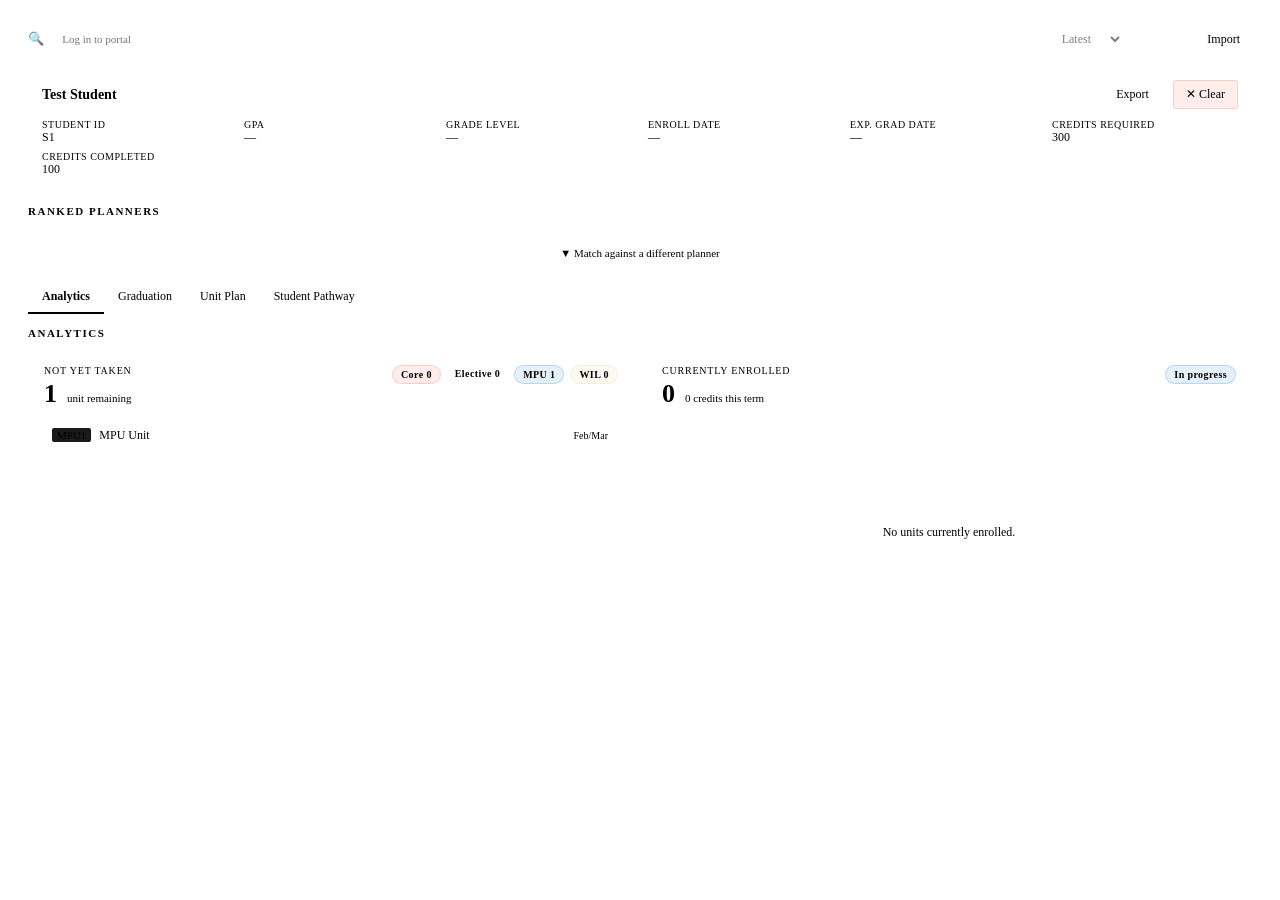
Graduation Check: per-category credit bars › core_cp null but major_cp set: the Core & Major bar still appears, using major_cp alone
Click the tab "Graduation".
click(145, 298)  # box [104,281,186,314]
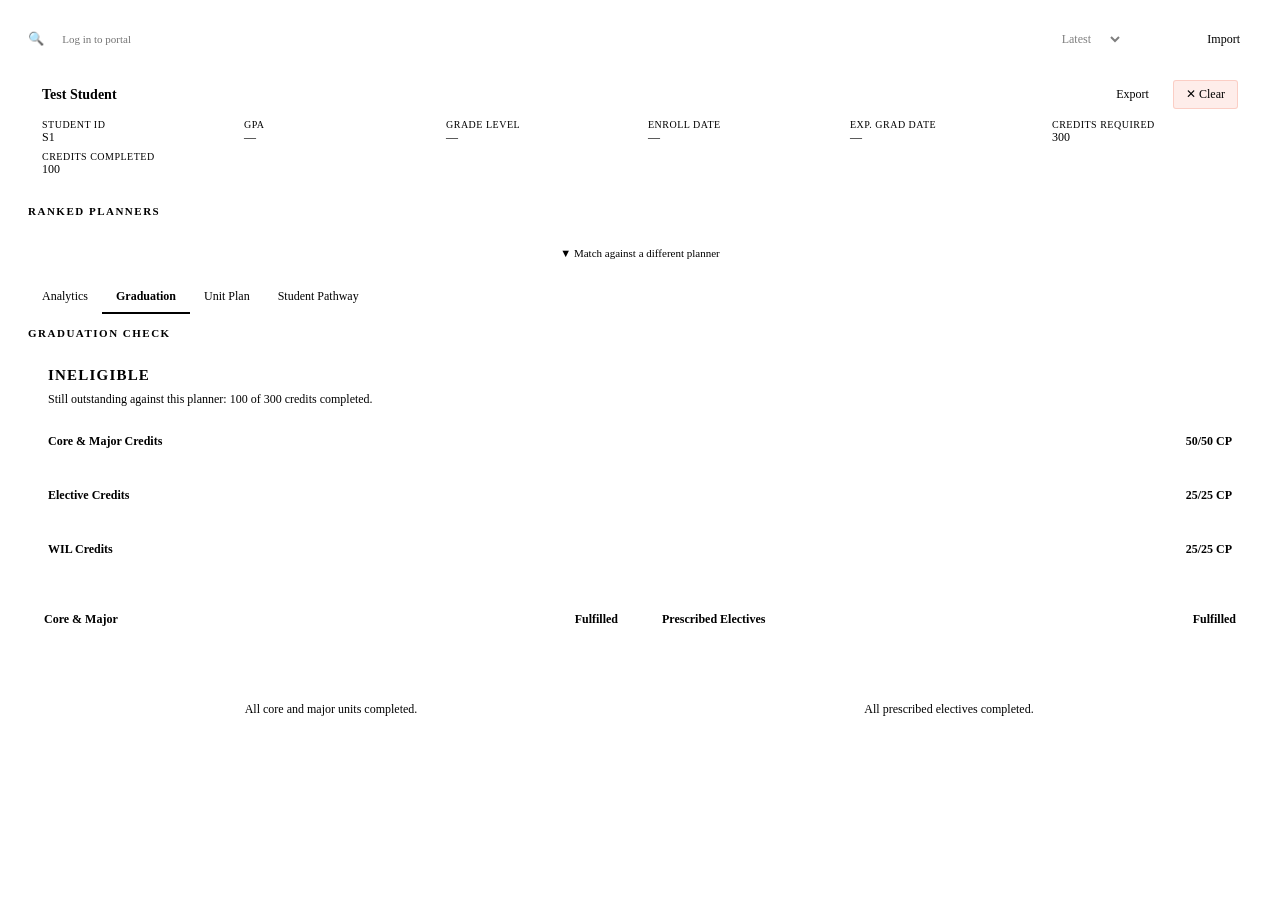
Check: the text "50/50 CP" is shown, box [1186,434,1232,449]
